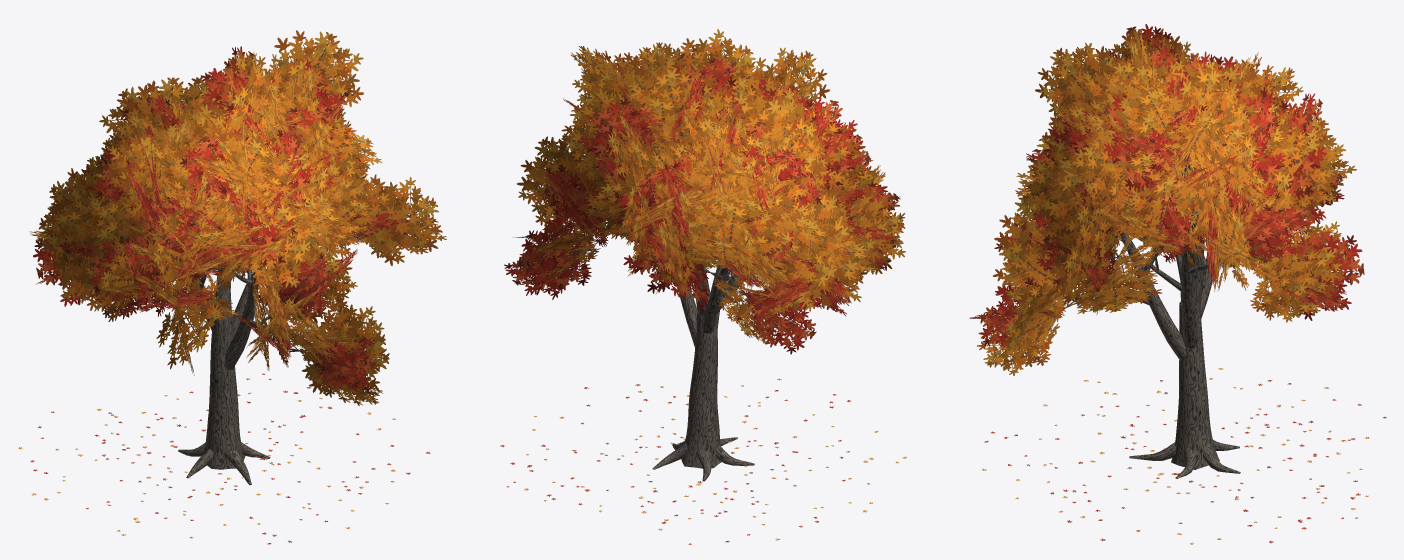
File: pine.glb
3 renders of one model, left to right at view 1: azimuth 30°, elevation 25°; view 2: azimuth 150°, elevation 25°; view 3: azimuth 270°, elevation 25°, orthographic. The views are drawn at different scales.
Visible parts, largest first — view 1: Leaves, Trunk, FallenLeaves; view 2: Leaves, Trunk, FallenLeaves; view 3: Leaves, Trunk, FallenLeaves.
Part boxes in pixels (x1,y1,x2,y2): Leaves: (30,30,446,405); Trunk: (178,195,355,485); FallenLeaves: (18,373,430,544); Leaves: (504,29,905,354); Trunk: (593,223,754,481); FallenLeaves: (500,378,906,544); Leaves: (969,24,1364,375); Trunk: (1065,159,1250,478); FallenLeaves: (981,368,1386,544).
Size of the model in its own units: 8.32 by 9.47 by 8.33.
Materials: 5 (5 with a texture image).
